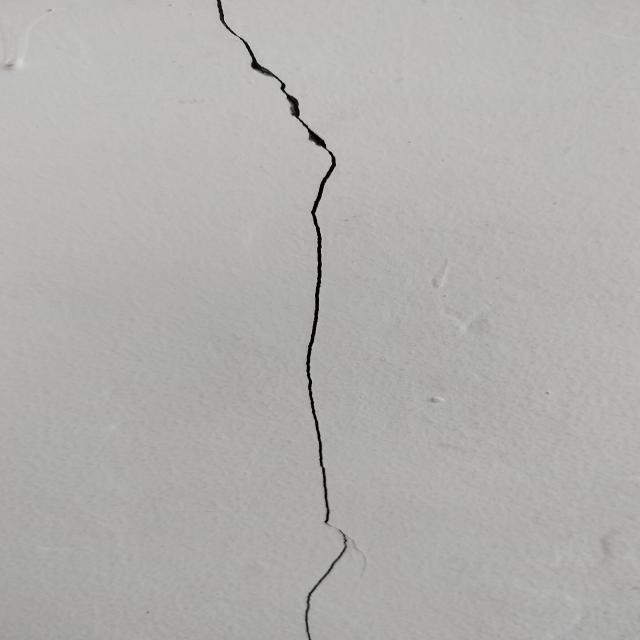Crack: (209, 1, 381, 639)
